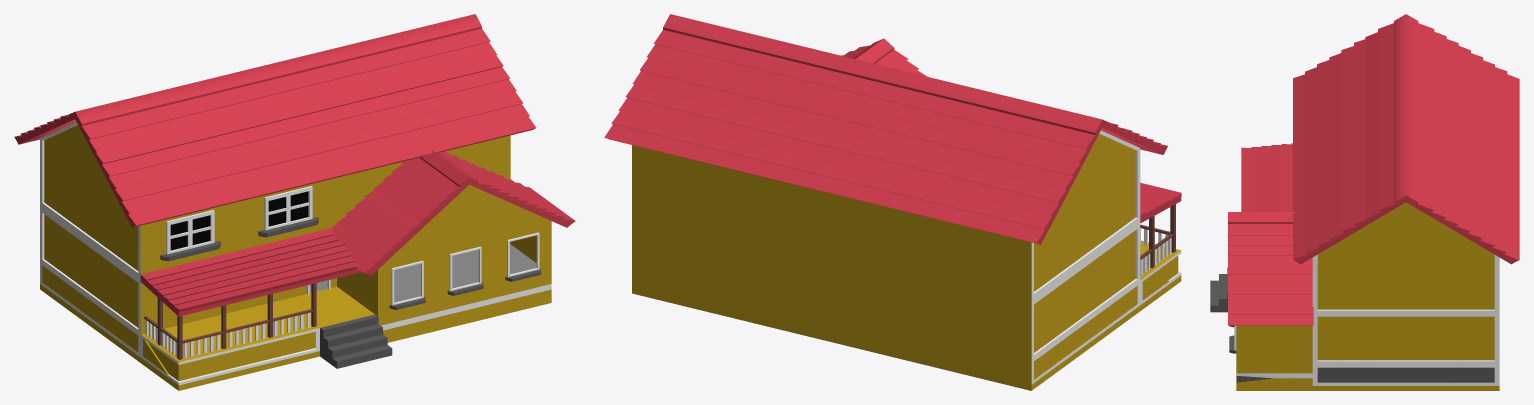
File: 072 House_6.fbx
The picture shows the model from 3 angles, left to right: view 1: azimuth 30°, elevation 25°; view 2: azimuth 150°, elevation 25°; view 3: azimuth 270°, elevation 25°; orthographic projection. The views are drawn at different scales.
Parts seen in each view (by area): view 1: House; view 2: House; view 3: House.
Part boxes in pixels (x1=…): House: x1=14, y1=14, x2=575, y2=390; House: x1=604, y1=14, x2=1181, y2=390; House: x1=1210, y1=14, x2=1519, y2=390.
Bounding box in the file's own units: 1282 × 661 × 914.
